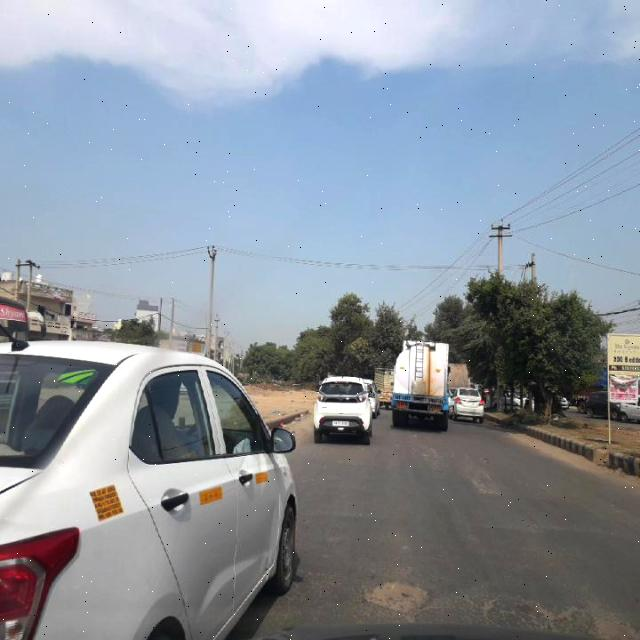D40: (475, 595, 624, 639), (356, 568, 436, 622)
